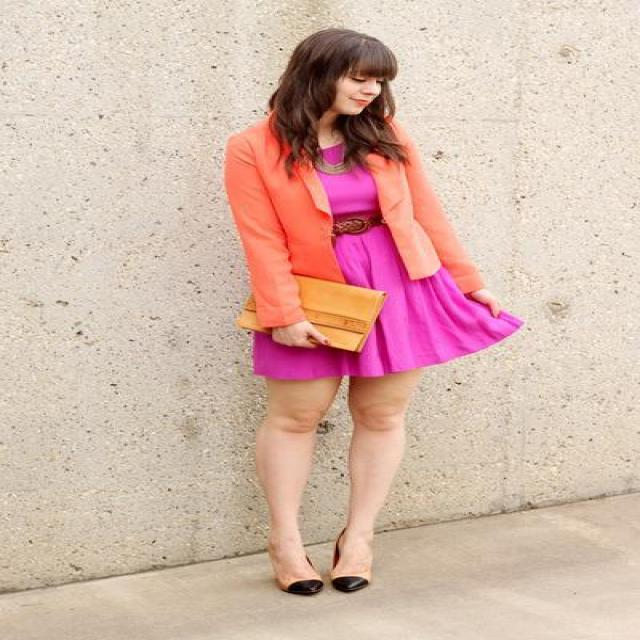bag: (296, 278, 384, 344)
dress: (251, 144, 522, 379)
jacket: (226, 118, 478, 330)
shoe: (259, 558, 363, 595)
